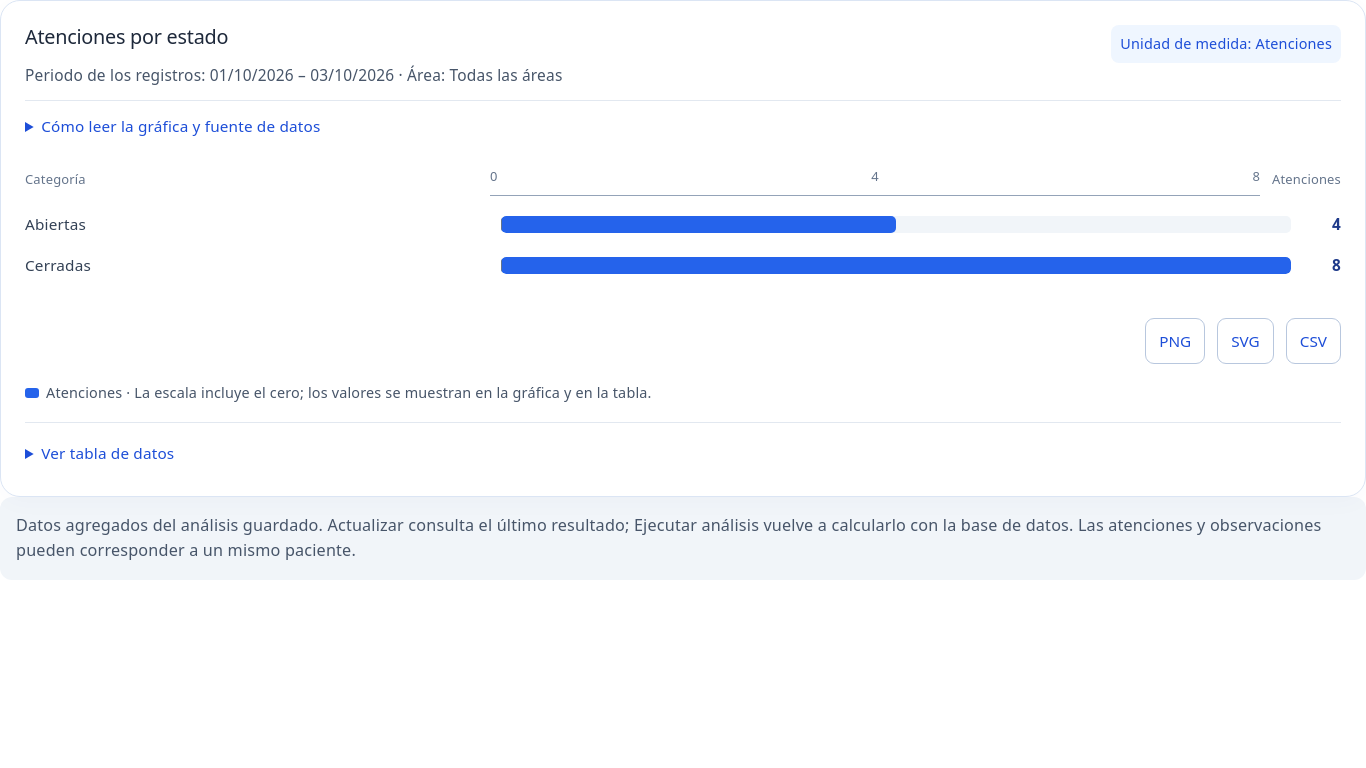
labels actual statuses and exposes every value in an accessible table
expect the heading "Atenciones por estado" is shown: met, box x1=25 y1=25 x2=228 y2=48
Click the heading "Ver tabla de datos".
click(108, 454)  # box x1=41 y1=444 x2=174 y2=464
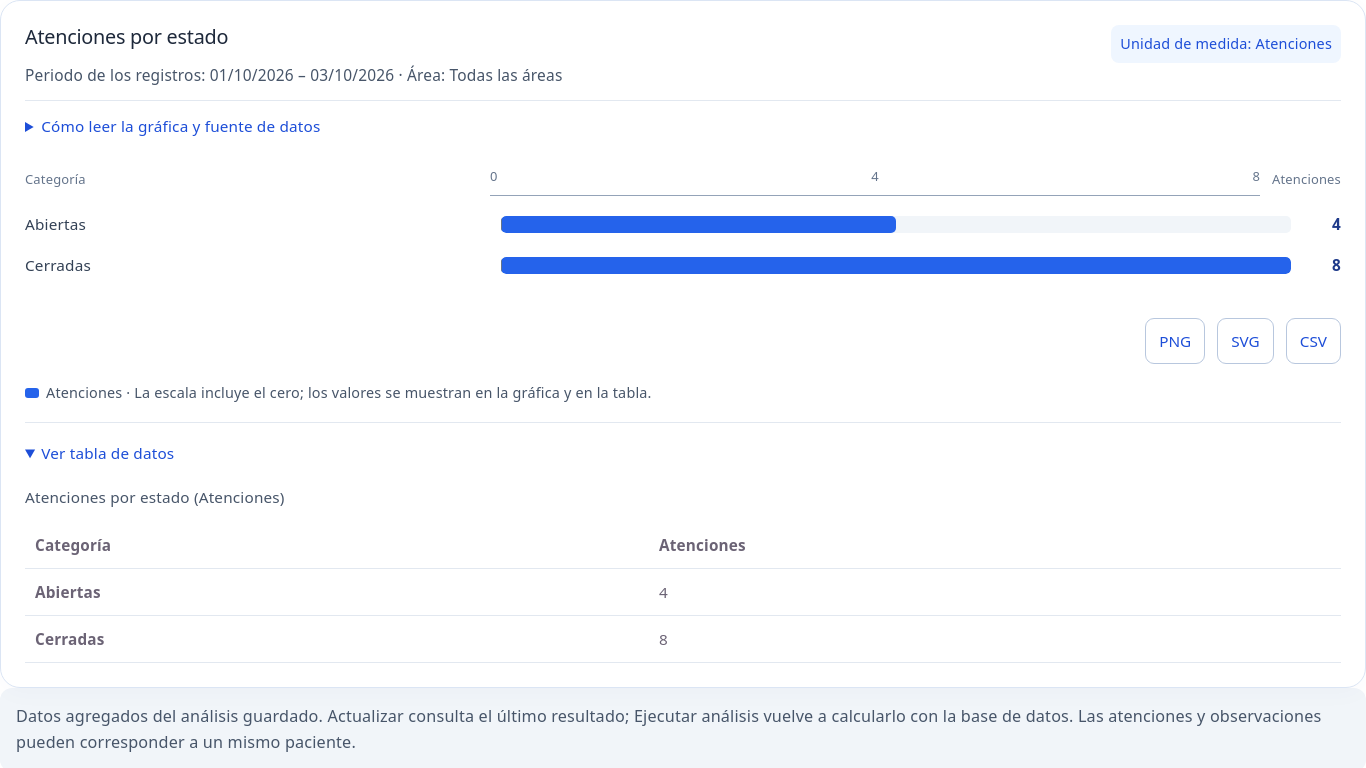
expect the number of rows is 3: met, box x1=25 y1=522 x2=1341 y2=568; x1=25 y1=568 x2=1341 y2=615; x1=25 y1=615 x2=1341 y2=662
